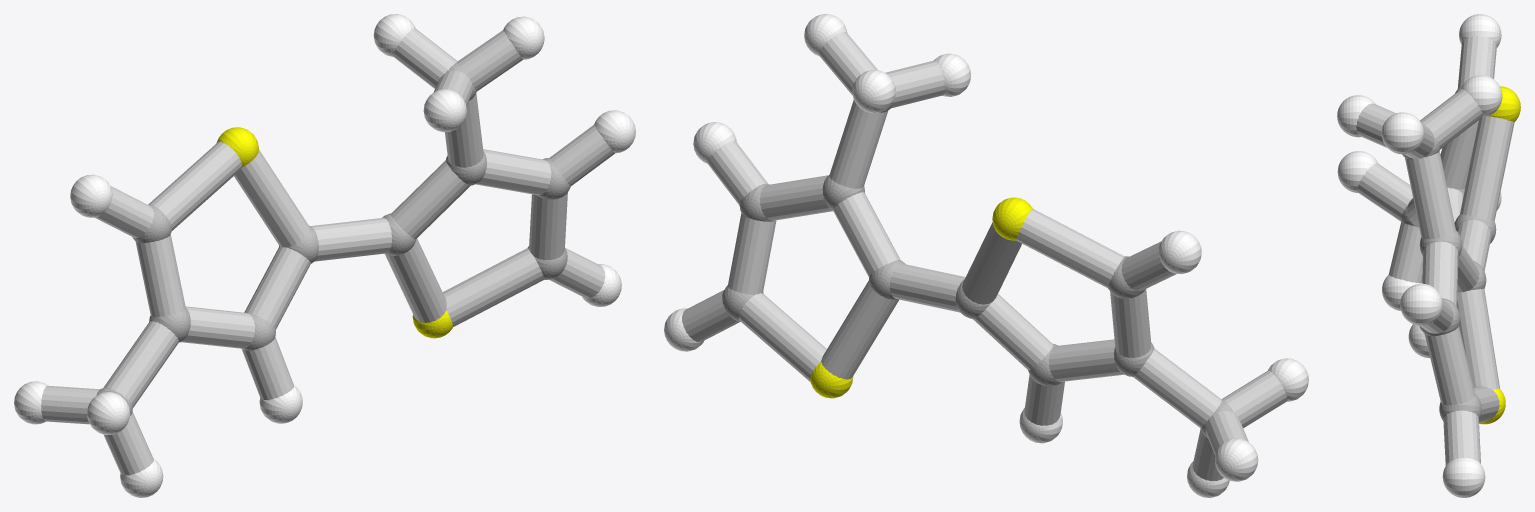
The model's file is color.glb.
3 views of the same model, side by side, from view 1: azimuth 30°, elevation 25°; view 2: azimuth 150°, elevation 25°; view 3: azimuth 270°, elevation 25° (orthographic). The views are drawn at different scales.
Parts seen in each view (by area): view 1: grp7965, grp3621, grp1, grp7241; view 2: grp7965, grp3621, grp1, grp7241; view 3: grp7965, grp3621, grp1, grp7241.
Boxes of the visible parts, <box> form: grp7965: <box>41,28,614,475</box>; grp3621: <box>14,14,635,497</box>; grp1: <box>96,62,570,415</box>; grp7241: <box>216,127,453,338</box>; grp7965: <box>681,31,1287,481</box>; grp3621: <box>664,14,1308,497</box>; grp1: <box>722,99,1235,437</box>; grp7241: <box>810,197,1032,398</box>; grp7965: <box>1356,36,1514,465</box>; grp3621: <box>1337,14,1502,497</box>; grp1: <box>1401,85,1496,420</box>; grp7241: <box>1479,86,1520,424</box>.
Bounding box in the file's own units: 9.5 × 5.88 × 2.59.
